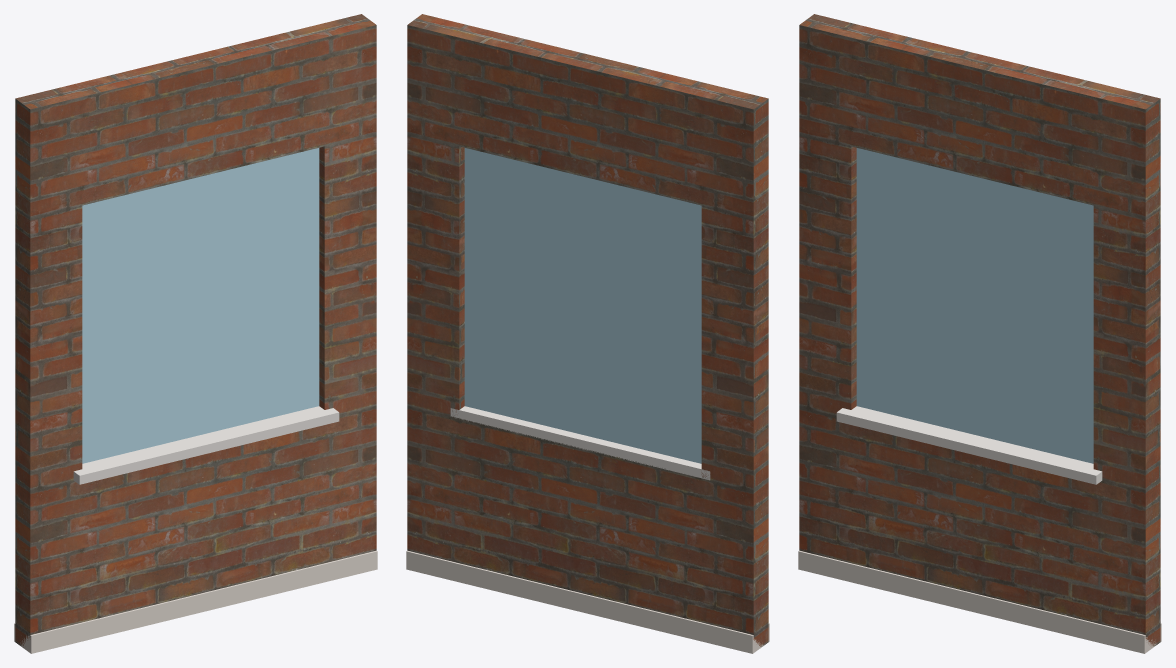
The model's file is wall_brick_window_2m.fbx.
3 views of the same model, side by side, from view 1: azimuth 30°, elevation 25°; view 2: azimuth 150°, elevation 25°; view 3: azimuth 330°, elevation 25° (orthographic).
Parts seen in each view (by area): view 1: wall_brick_window_2m; view 2: wall_brick_window_2m; view 3: wall_brick_window_2m.
Part boxes in pixels (x1=…): wall_brick_window_2m: x1=14, y1=14, x2=377, y2=653; wall_brick_window_2m: x1=406, y1=14, x2=769, y2=653; wall_brick_window_2m: x1=798, y1=14, x2=1161, y2=653.
Bounding box in the file's own units: 2 × 3 × 0.22.
